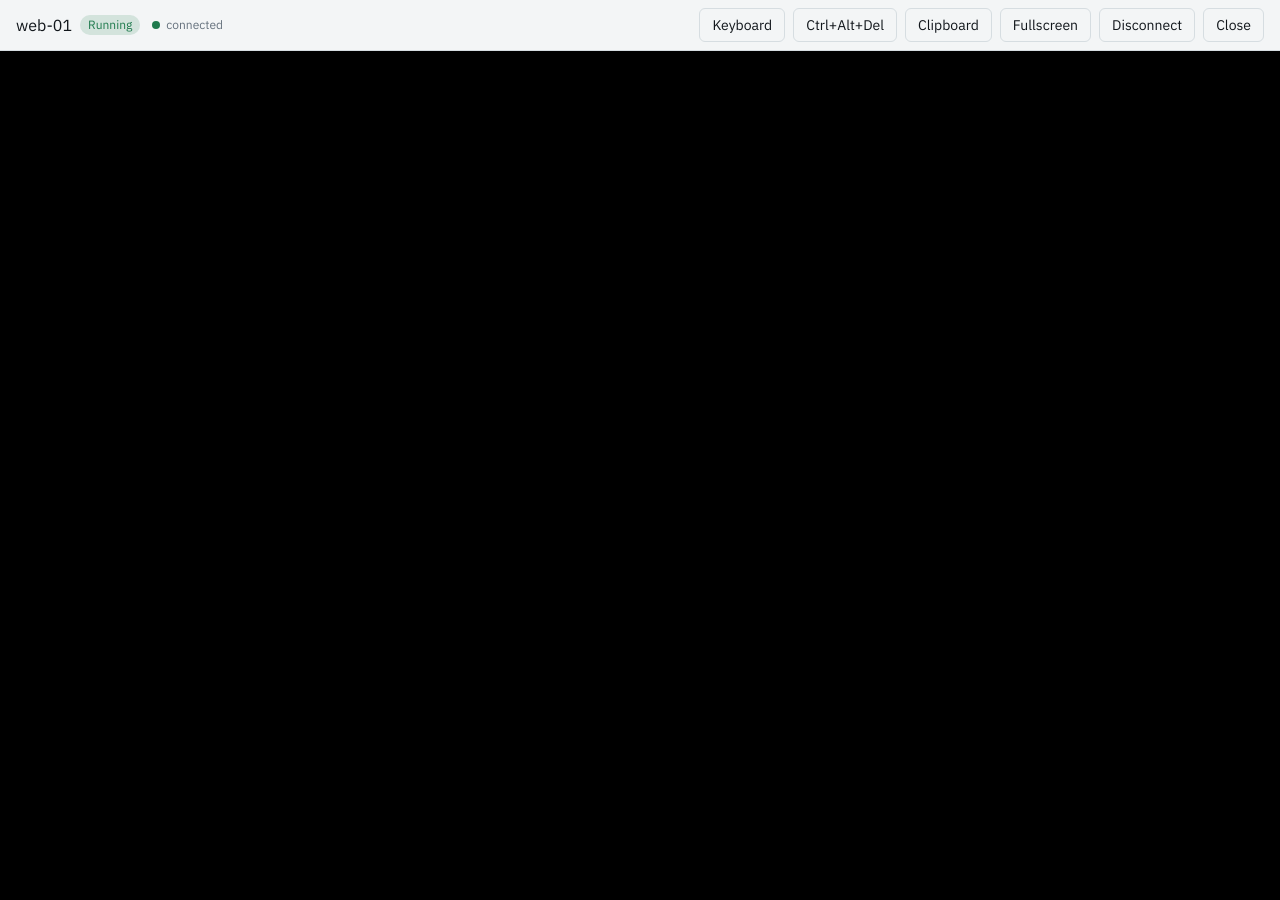
console clipboard › will not send nothing
Click the button "Clipboard" at (948, 25), box [905, 8, 992, 42]
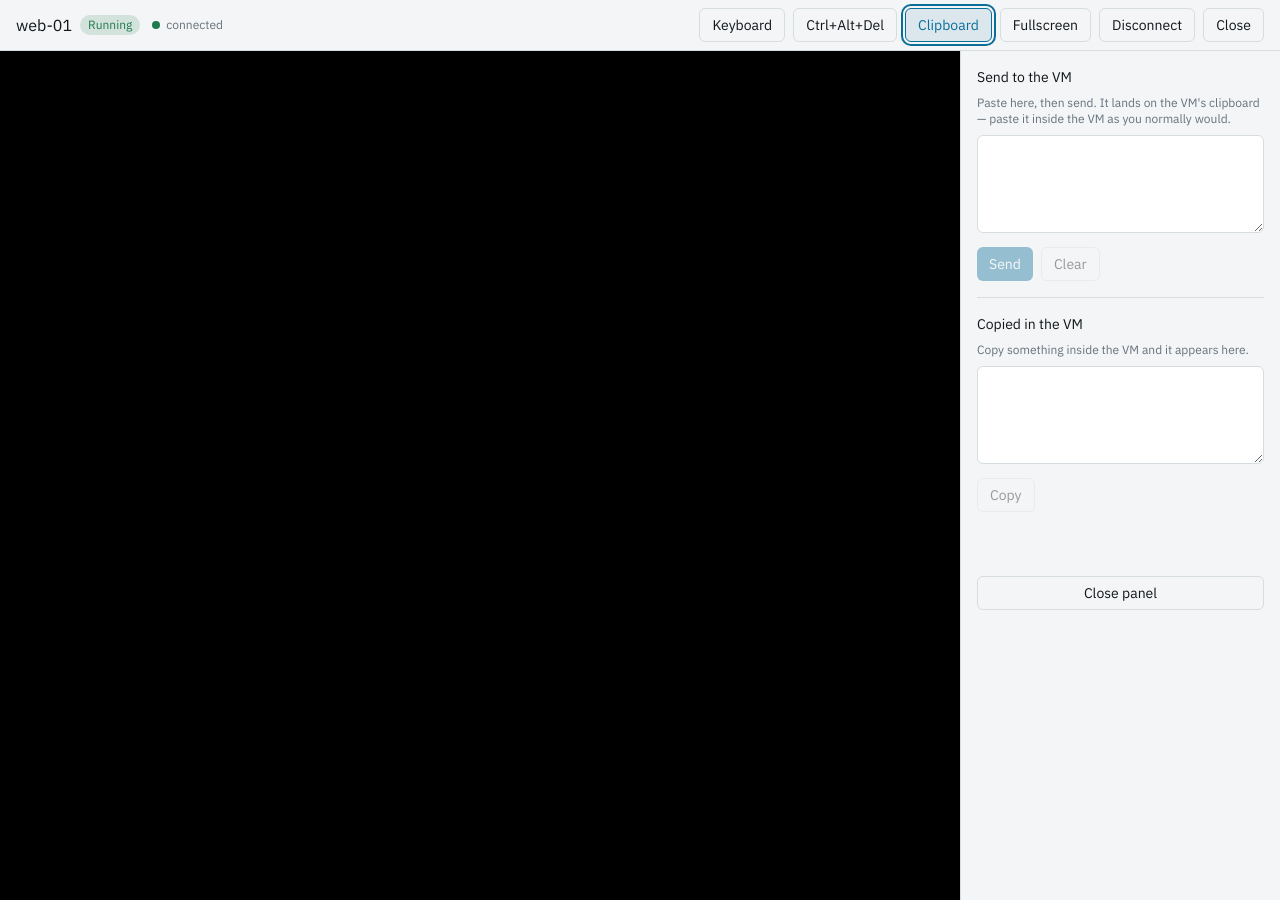
Check: the button "Send" is disabled, box [977, 247, 1033, 281]
